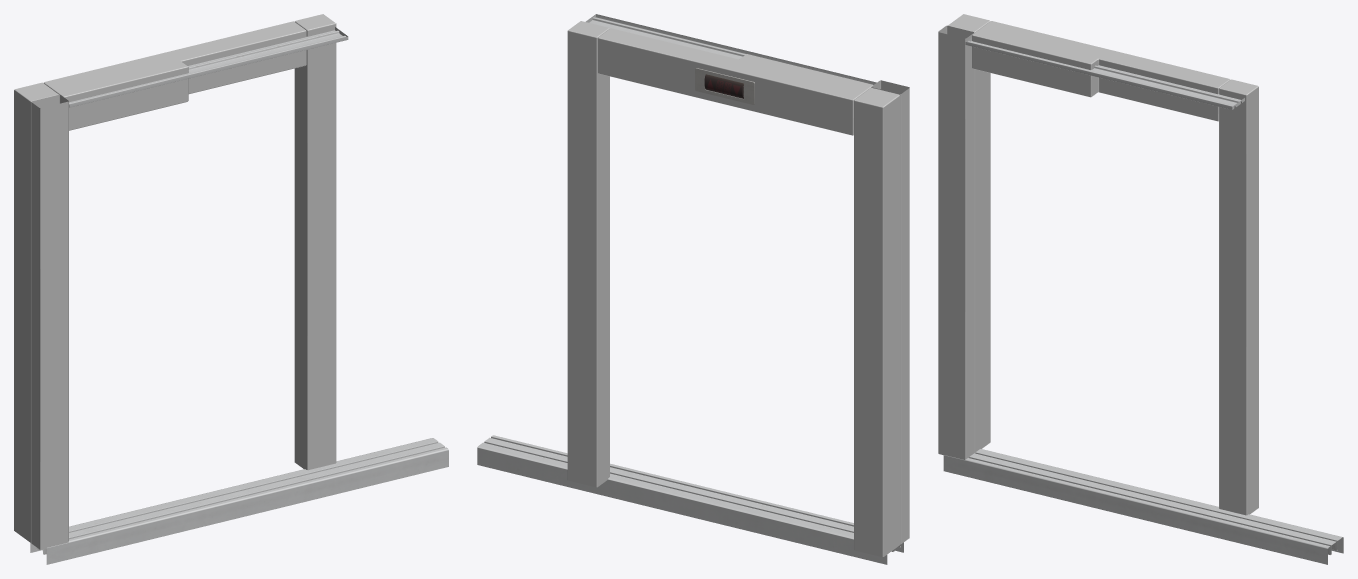
Rendered from SM_Elevator_Frame_01.fbx.
3 views of the same model, side by side, from view 1: azimuth 30°, elevation 25°; view 2: azimuth 150°, elevation 25°; view 3: azimuth 330°, elevation 25° (orthographic). The views are drawn at different scales.
Visible parts, largest first — view 1: SM_Elevator_Frame_01; view 2: SM_Elevator_Frame_01; view 3: SM_Elevator_Frame_01.
Boxes of the visible parts, <box> form: SM_Elevator_Frame_01: <box>14,14,448,564</box>; SM_Elevator_Frame_01: <box>477,14,909,564</box>; SM_Elevator_Frame_01: <box>938,14,1343,564</box>.
Bounding box in the file's own units: 211 × 25.49 × 226.
